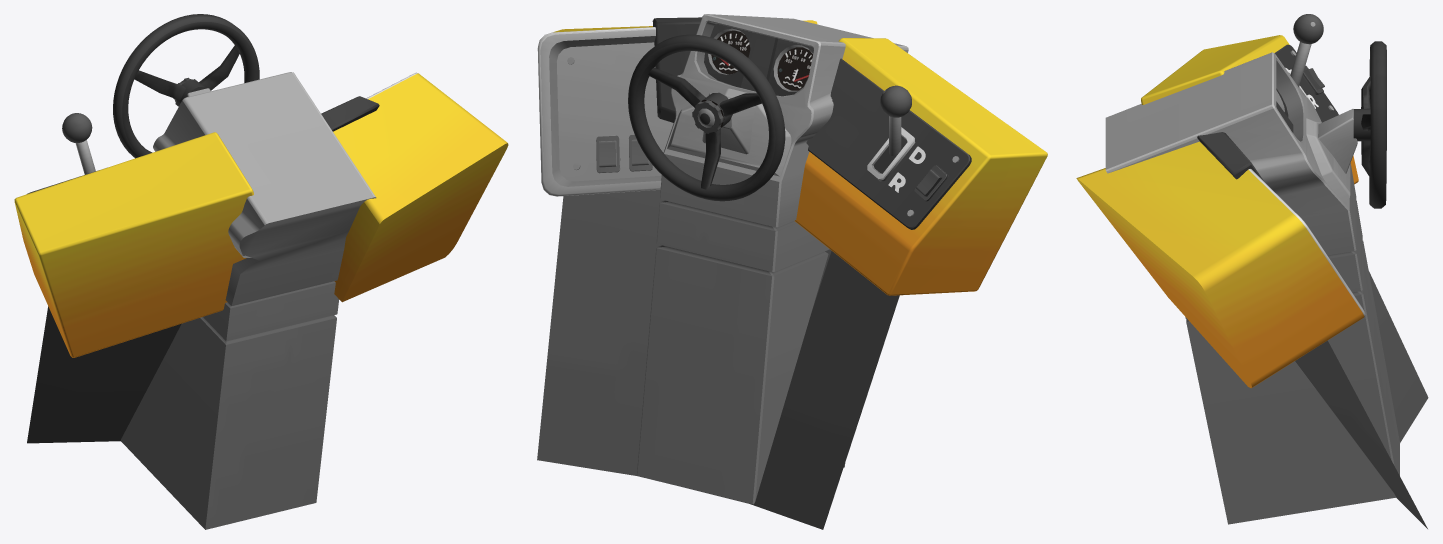
The model's file is Tractor Dashboard.fbx.
3 views of the same model, side by side, from view 1: azimuth 30°, elevation 25°; view 2: azimuth 150°, elevation 25°; view 3: azimuth 270°, elevation 25° (orthographic). The views are drawn at different scales.
Visible parts, largest first — view 1: Base, Steering, Transmission; view 2: Base, Steering, Transmission, Transmission_Base; view 3: Base, Steering, Transmission.
Part boxes in pixels (left/top/right/bottom): Base: left=14, top=72, right=508, bottom=529; Steering: left=113, top=14, right=259, bottom=158; Transmission: left=62, top=113, right=95, bottom=174; Base: left=537, top=14, right=1047, bottom=529; Steering: left=628, top=34, right=785, bottom=201; Transmission: left=880, top=85, right=911, bottom=155; Transmission_Base: left=866, top=127, right=915, bottom=181; Base: left=1076, top=35, right=1428, bottom=528; Steering: left=1353, top=41, right=1386, bottom=208; Transmission: left=1290, top=14, right=1323, bottom=87.
Size of the model in its own units: 365 by 331 by 236.
